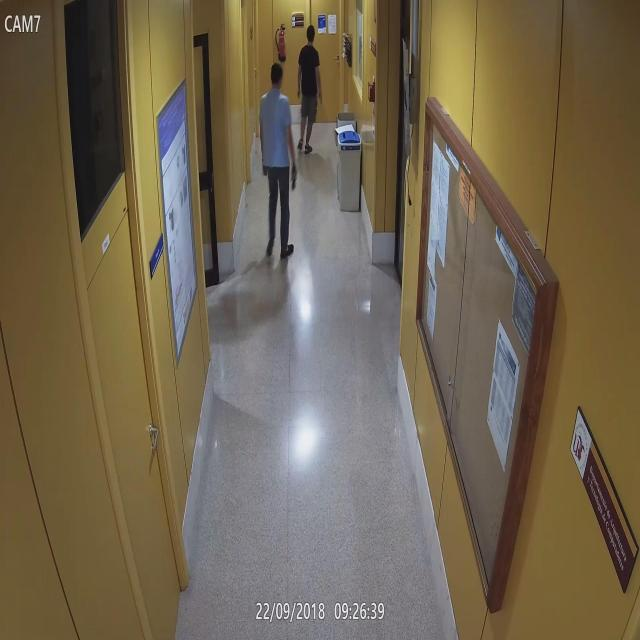pistol: (288, 157, 301, 203), (314, 84, 324, 113)
